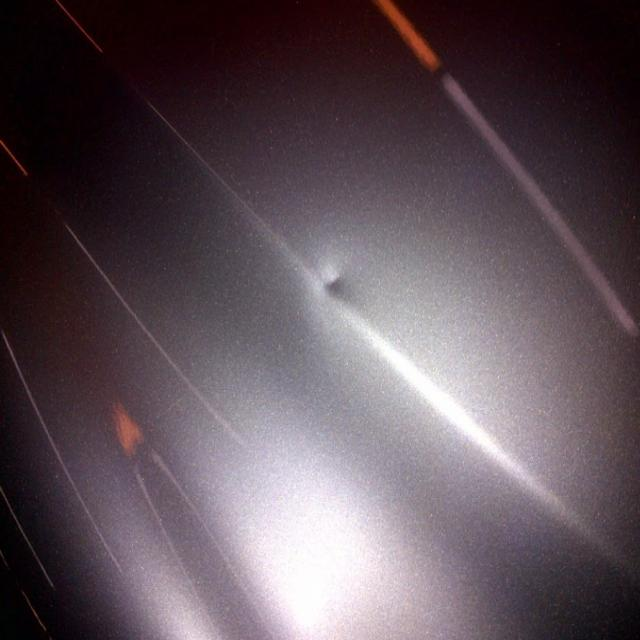dents: (288, 219, 374, 327)
